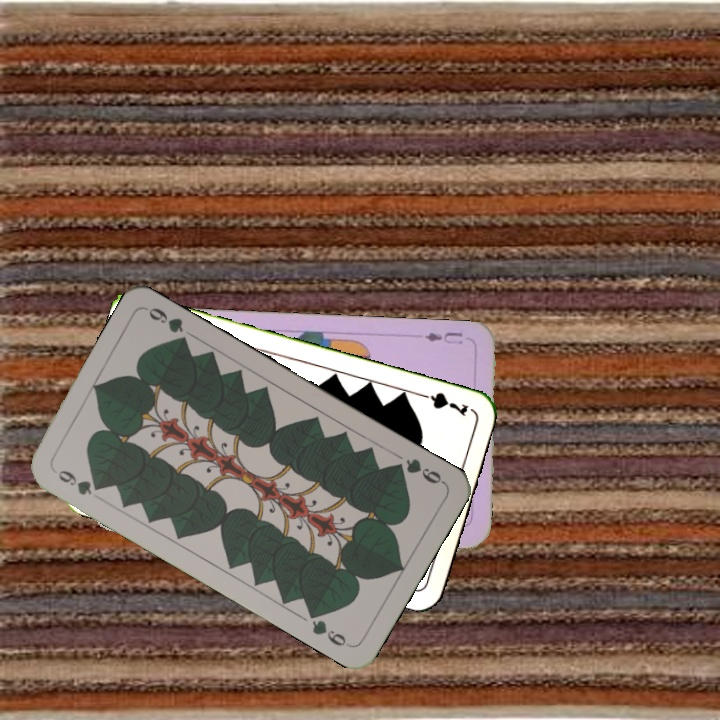EU: (421, 328, 465, 347)
G7: (413, 388, 471, 419)
G9: (389, 454, 447, 487), (53, 466, 106, 498)
